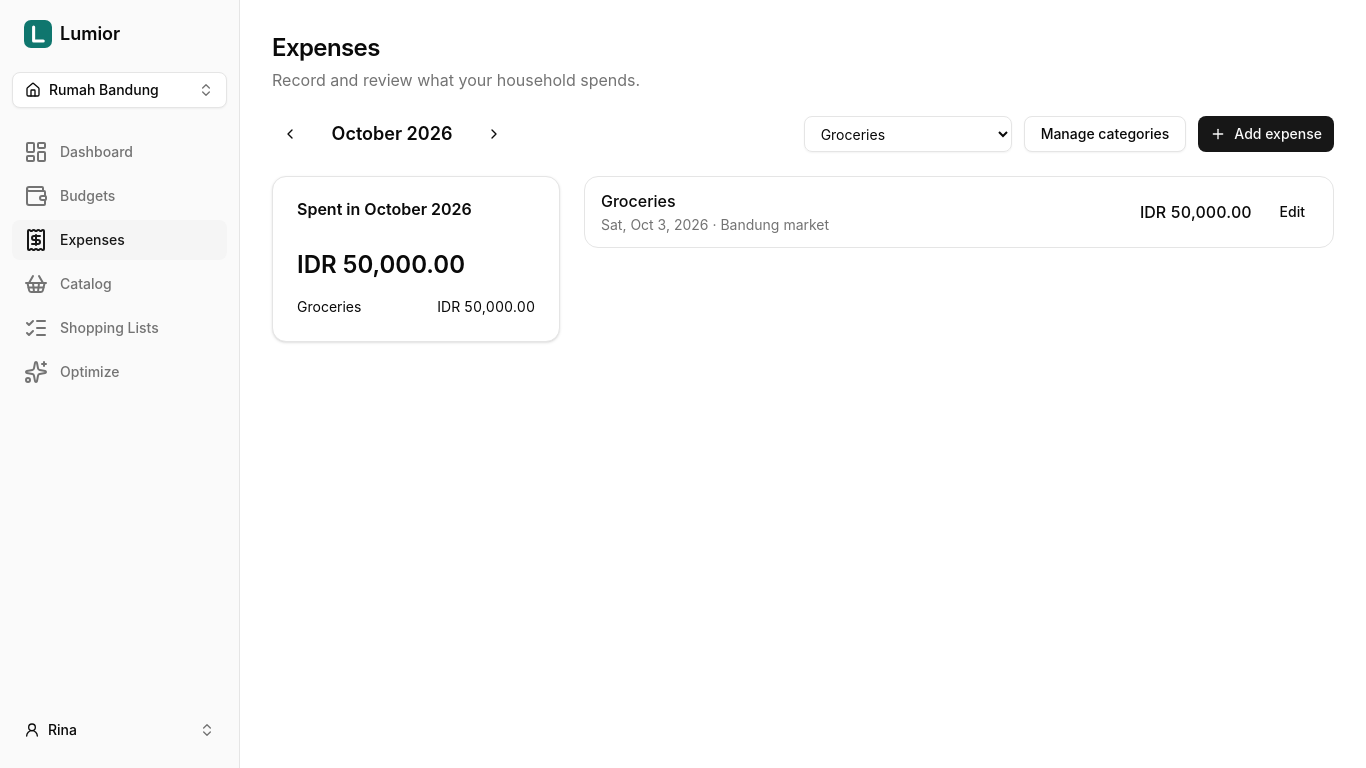
category filter › switching household keeps the month and clears the filter
Click the button with aria-label "Household: Rumah Bandung. Switch household" at (120, 90), box [12,72,227,108]
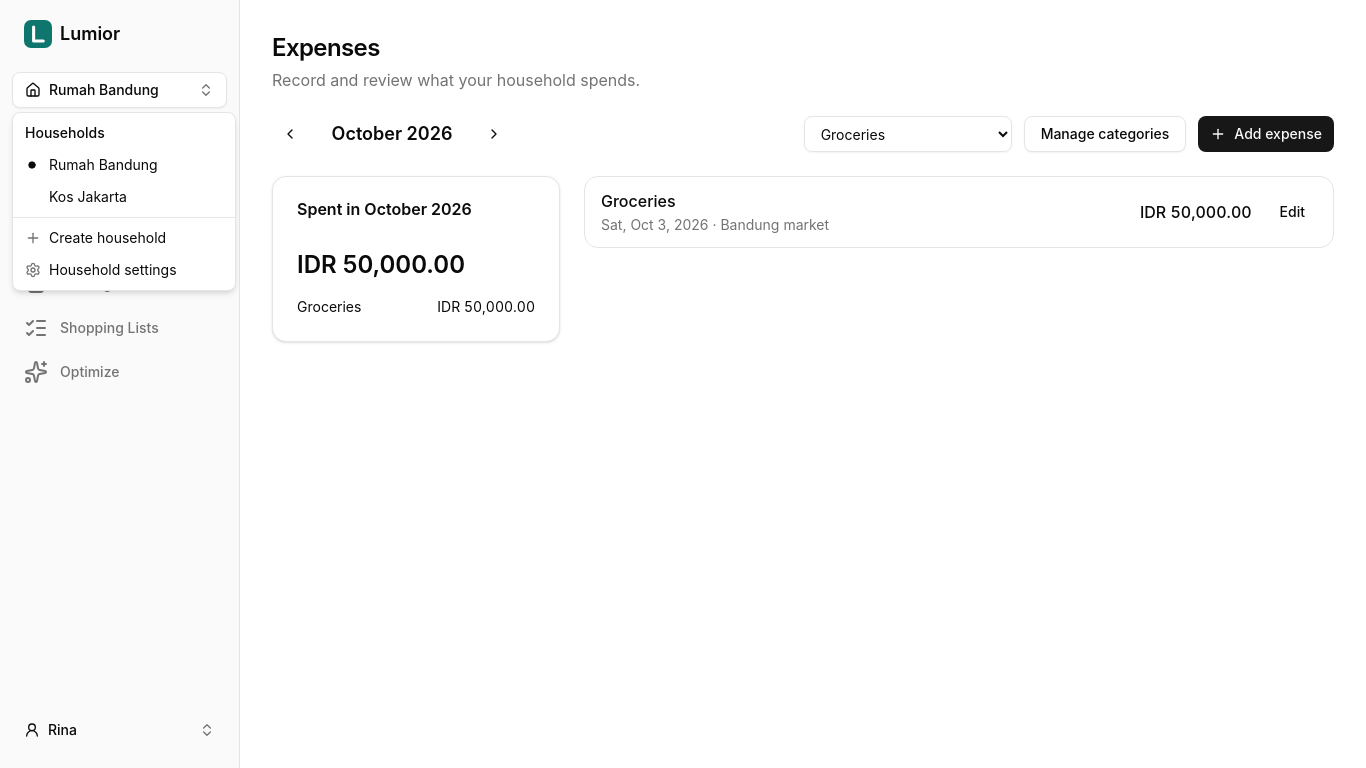
Click the menu item "Kos Jakarta" at (88, 196), box [49,188,127,205]
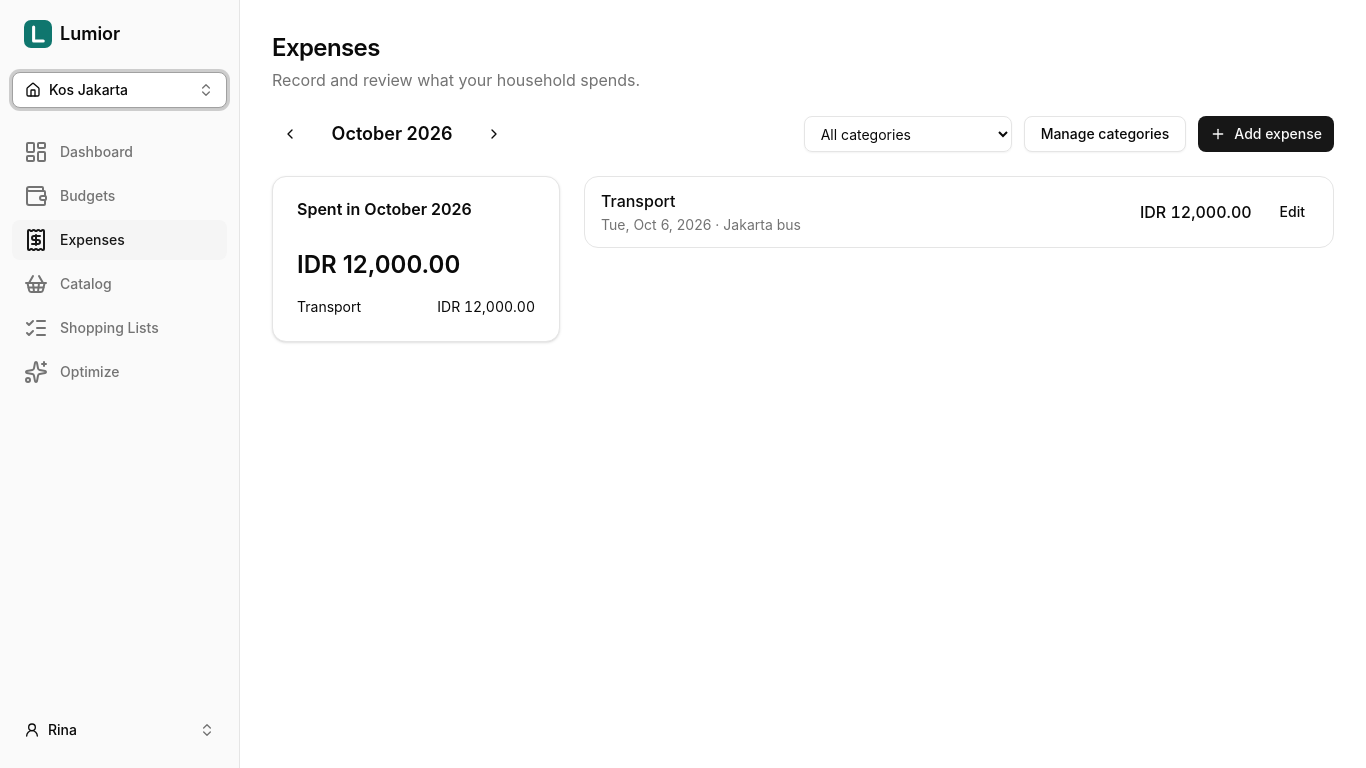
Expected: the text "Bandung market" is gone
